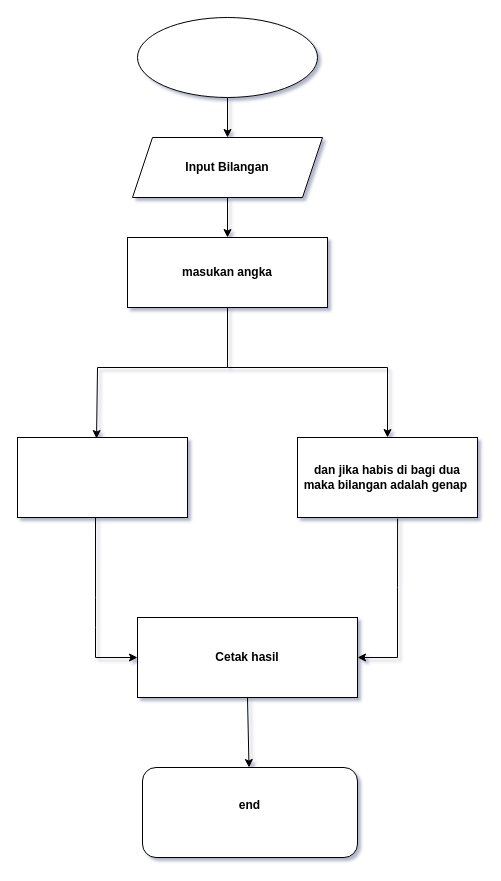
The diagram is 501 pixels wide and 881 high, and some of its shapes have lost their labels. Here are the shapes that lost their labels. From the top down, the centre of each, then its label:
(x=227, y=57): Mulai
(x=102, y=477): Jika Angka tidak habis di bagi dua maka bilangan adalah ganjil
